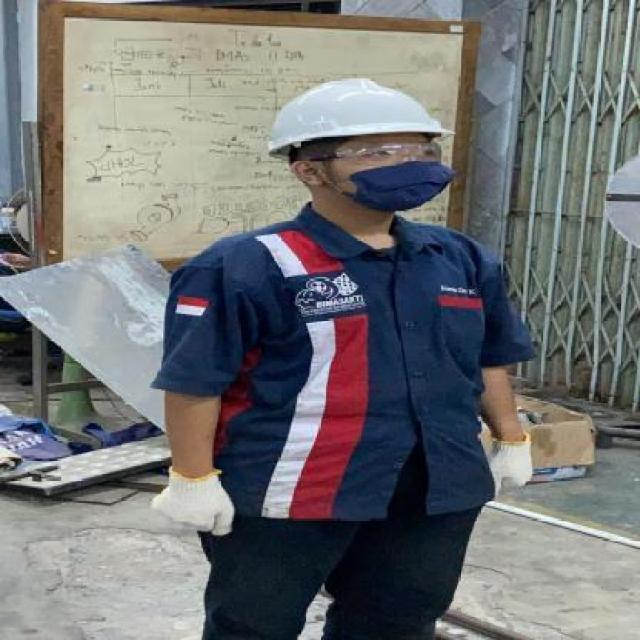Gloves: (147, 464, 255, 536)
Helmet: (263, 78, 457, 150)
